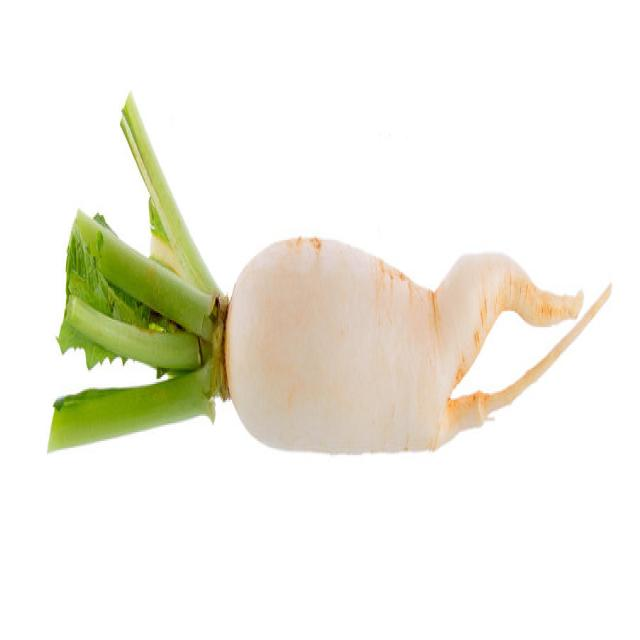Cabbage: (56, 206, 209, 375)
Carrot: (434, 279, 612, 450), (46, 359, 216, 453)
Radish: (47, 89, 612, 457), (78, 133, 189, 180)
Spinach: (47, 89, 227, 453)
